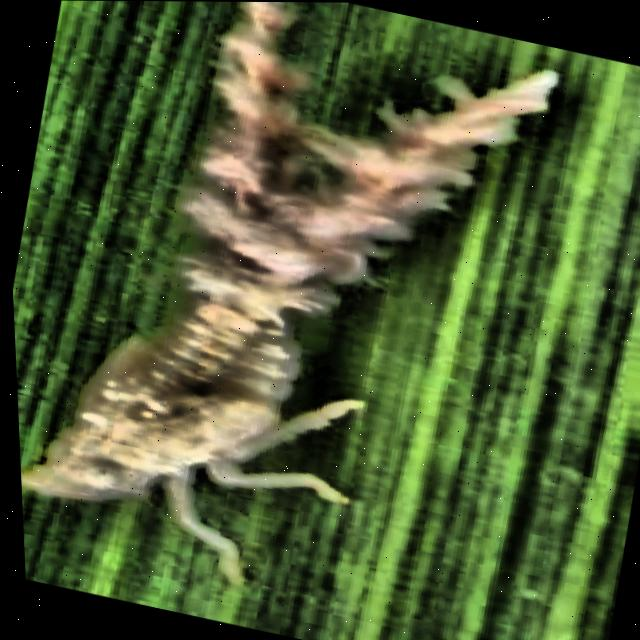Pyrilla-perpusilla: (0, 0, 594, 592)
